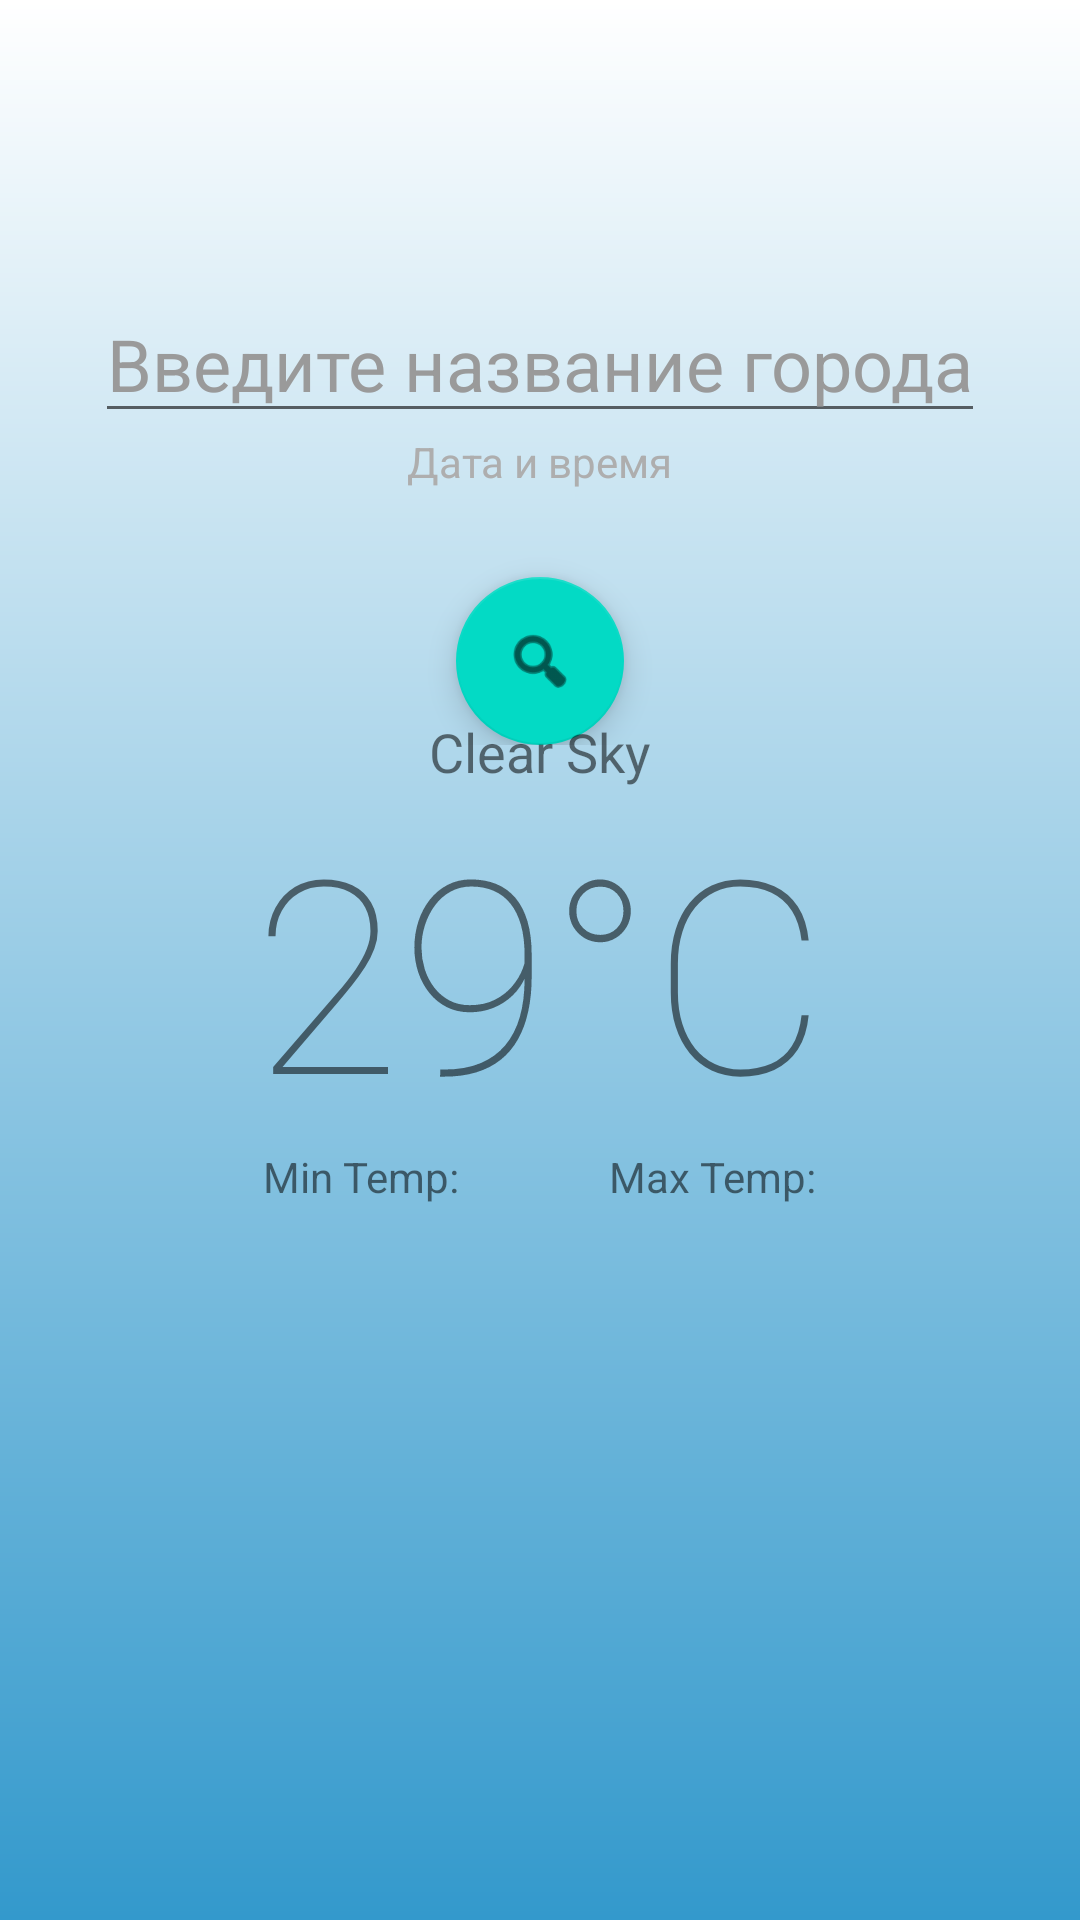

Screen size 1080 × 1920. Icon name, then its center in pixels as [x,y]:
search: [540,661]
